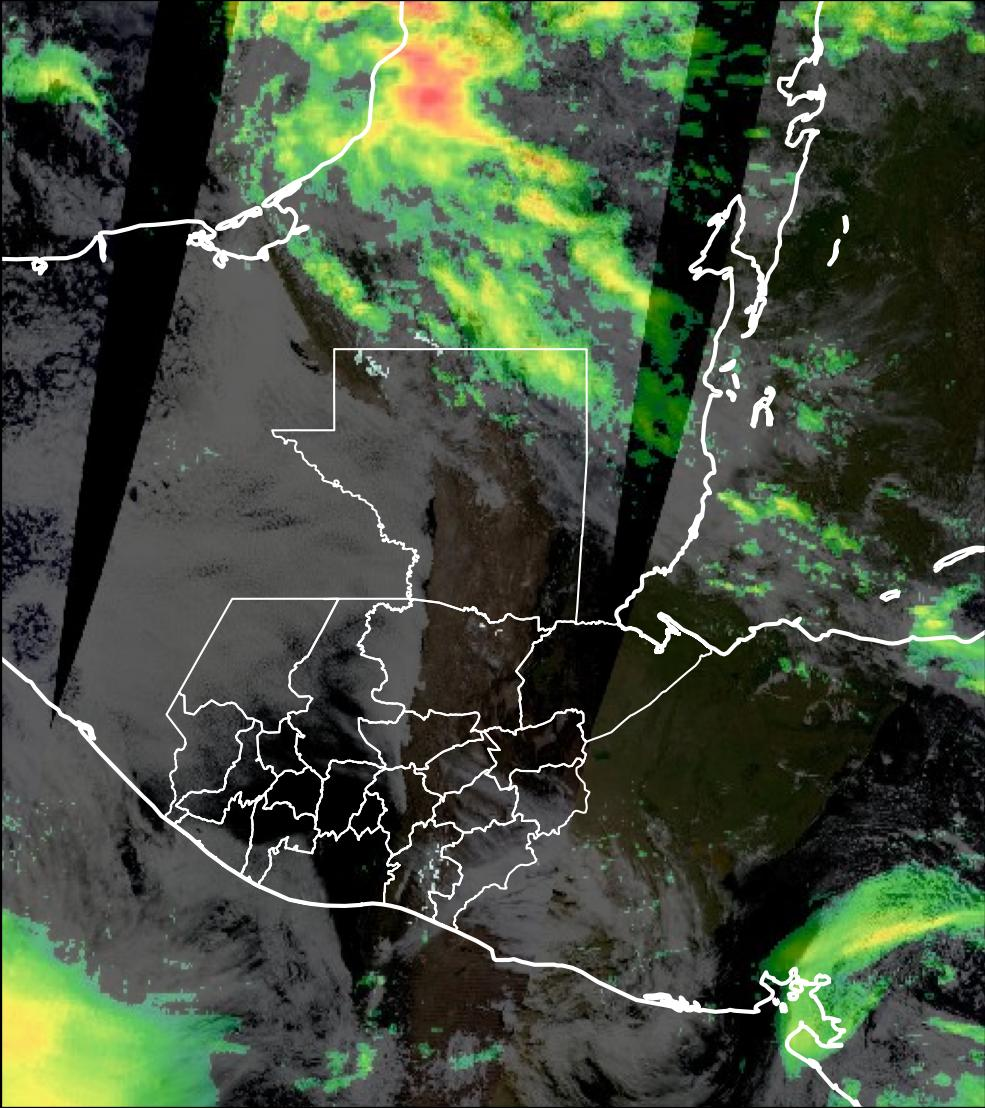precipitacion: (392, 42, 487, 147)
